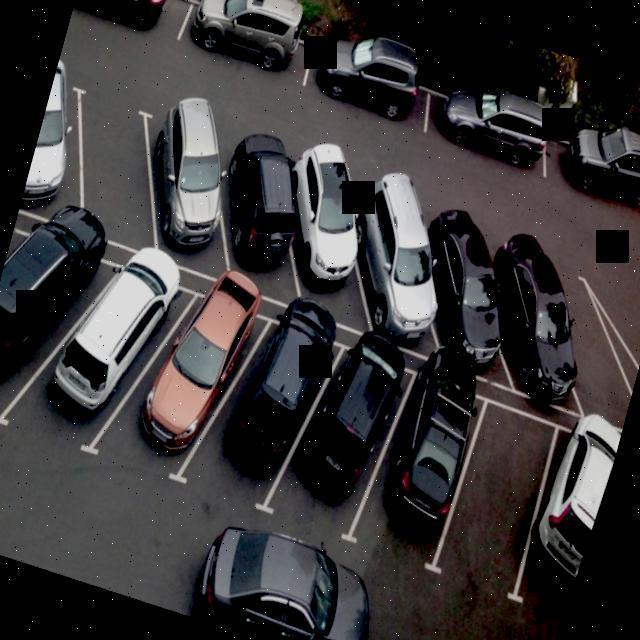space-empty: (425, 402, 562, 598), (51, 85, 178, 254), (525, 248, 640, 427)
space-occupied: (173, 294, 345, 525), (20, 248, 189, 467), (106, 275, 268, 501), (273, 331, 408, 542), (0, 215, 123, 427), (351, 369, 482, 566), (507, 422, 620, 618), (255, 138, 377, 315), (334, 175, 462, 341), (463, 238, 585, 411), (399, 202, 514, 373), (125, 103, 244, 263), (199, 124, 310, 287), (297, 41, 436, 136), (176, 0, 317, 92), (20, 64, 97, 213), (423, 85, 551, 173), (538, 134, 640, 223), (68, 0, 196, 54)
